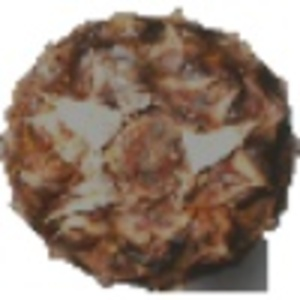abacaxi: (5, 16, 290, 283)
